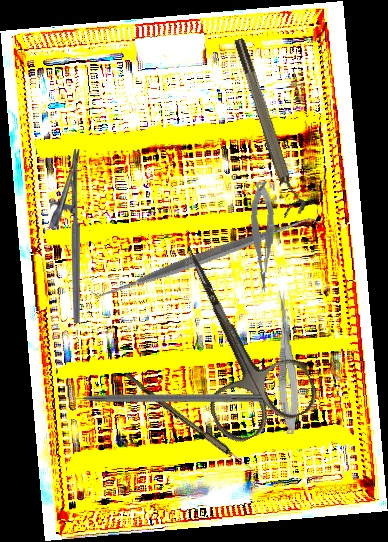Fixation Ring: (230, 34, 309, 219)
Hook Surgical: (53, 392, 262, 403)
Iris Scissors: (144, 225, 323, 449)
Micro Scissor: (269, 289, 303, 435), (245, 179, 278, 294)
Needle Holder: (49, 149, 81, 323)
Spatula Surgical: (89, 139, 322, 376)
Surgical Spoon: (122, 372, 268, 482)
